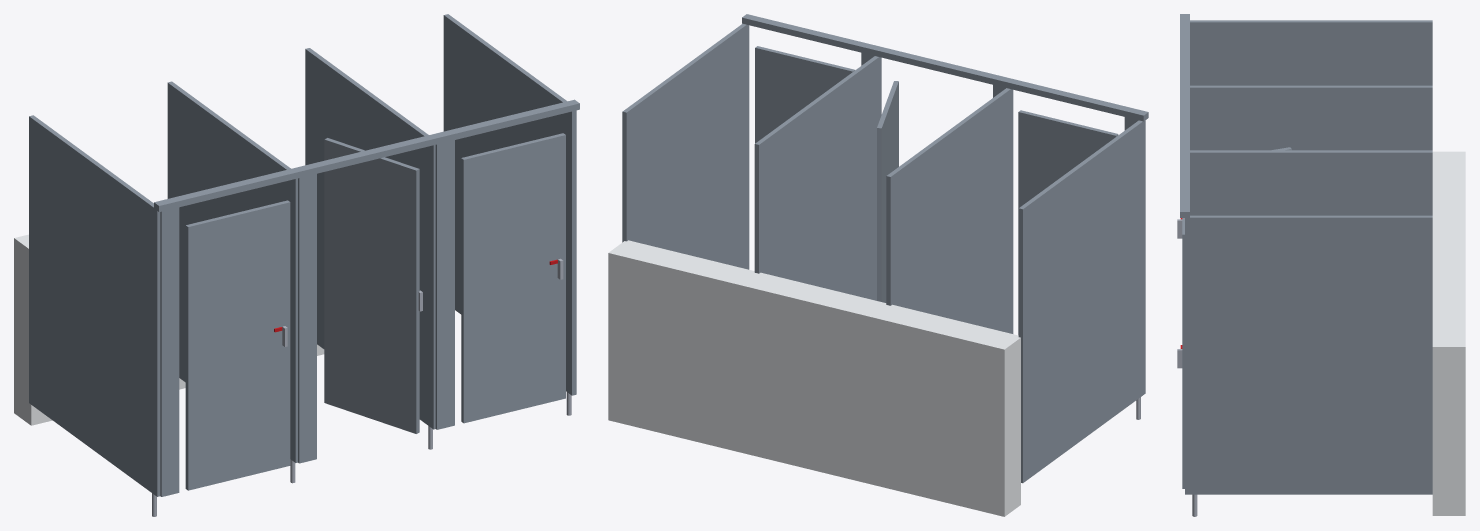
The model's file is ame-001.glb.
The picture shows the model from 3 angles, left to right: view 1: azimuth 30°, elevation 25°; view 2: azimuth 150°, elevation 25°; view 3: azimuth 270°, elevation 25°; orthographic projection. The views are drawn at different scales.
Parts seen in each view (by area): view 1: partition, white, steel; view 2: partition, white; view 3: partition, white, steel.
Part boxes in pixels (x1,y1,x2,y2): partition: (29, 14, 579, 496); white: (14, 234, 324, 425); steel: (152, 258, 571, 516); partition: (622, 14, 1148, 483); white: (608, 240, 1020, 516); partition: (1180, 14, 1432, 494); white: (1432, 151, 1465, 515); steel: (1177, 219, 1197, 516).
Bounding box in the file's own units: 2.84 × 2.04 × 1.75.
